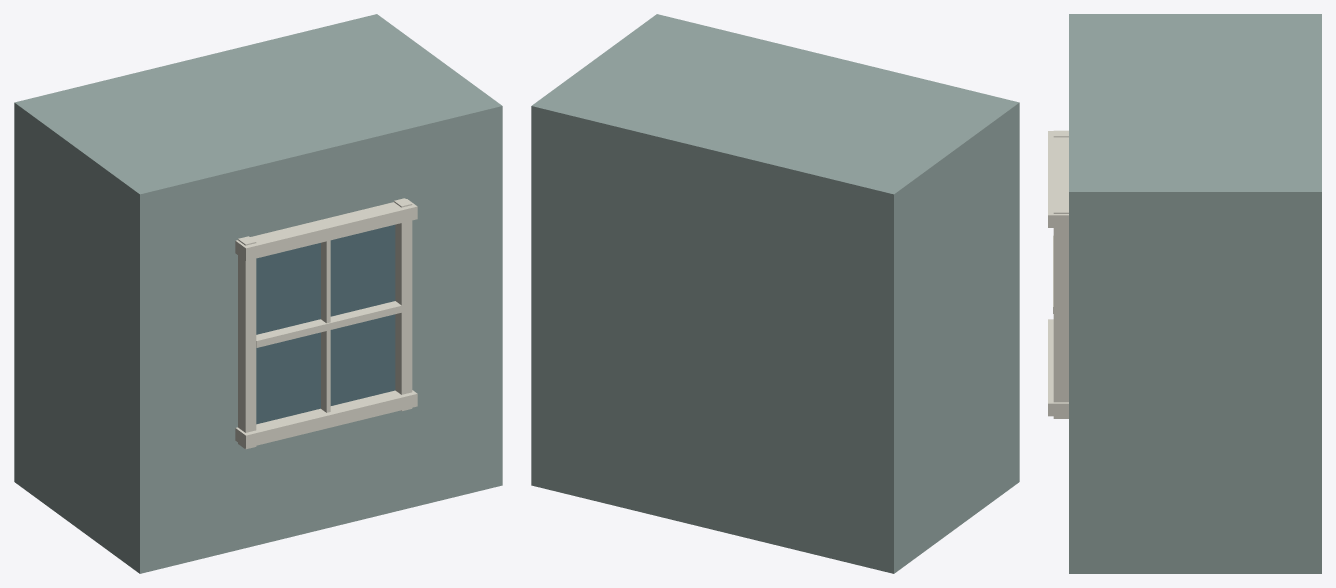
The picture shows the model from 3 angles, left to right: view 1: azimuth 30°, elevation 25°; view 2: azimuth 150°, elevation 25°; view 3: azimuth 270°, elevation 25°; orthographic projection.
Parts seen in each view (by area): view 1: QH-A0106_V02_geometry; view 2: QH-A0106_V02_geometry; view 3: QH-A0106_V02_geometry.
Part boxes in pixels (x1,y1,x2,y2): QH-A0106_V02_geometry: [14, 14, 502, 573]; QH-A0106_V02_geometry: [531, 14, 1019, 573]; QH-A0106_V02_geometry: [1048, 14, 1321, 573].
Size of the model in its own units: 3 by 3 by 1.95.
